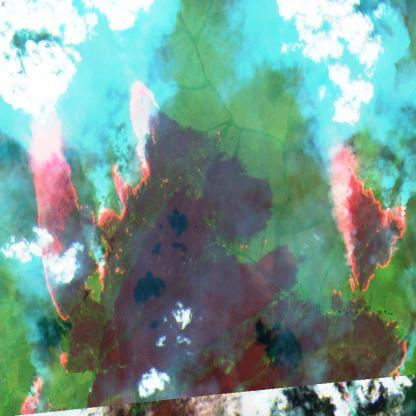fire: (0, 76, 416, 416)
